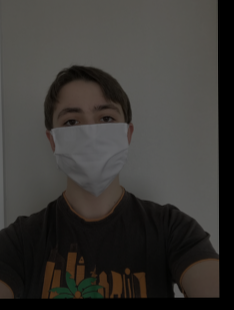with_mask: (49, 96, 130, 198)
